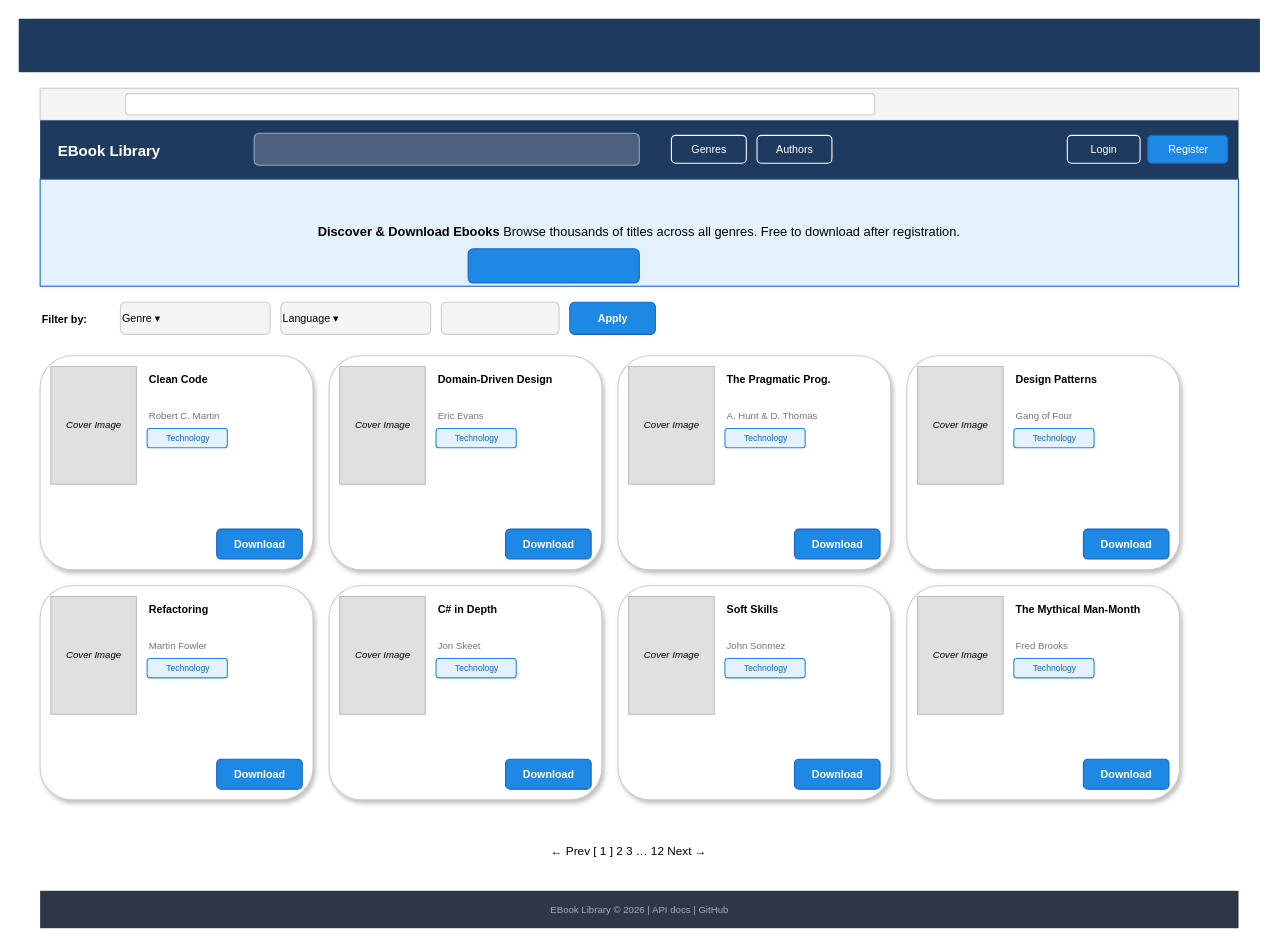
Some shapes in this 1278 by 946 pixel diagram are drawn without their labels. Here are the shapes that lost their labels. From the top down, the centre of each, then its label:
At [638,45]: "UI Mockup — Home Page (Book Catalog)".
At [500,104]: "https://ebooks.example.com/".
At [446,148]: "[ Search books by title, author... ]".
At [553,265]: "Browse Catalog".
At [499,317]: "Year ▾".
